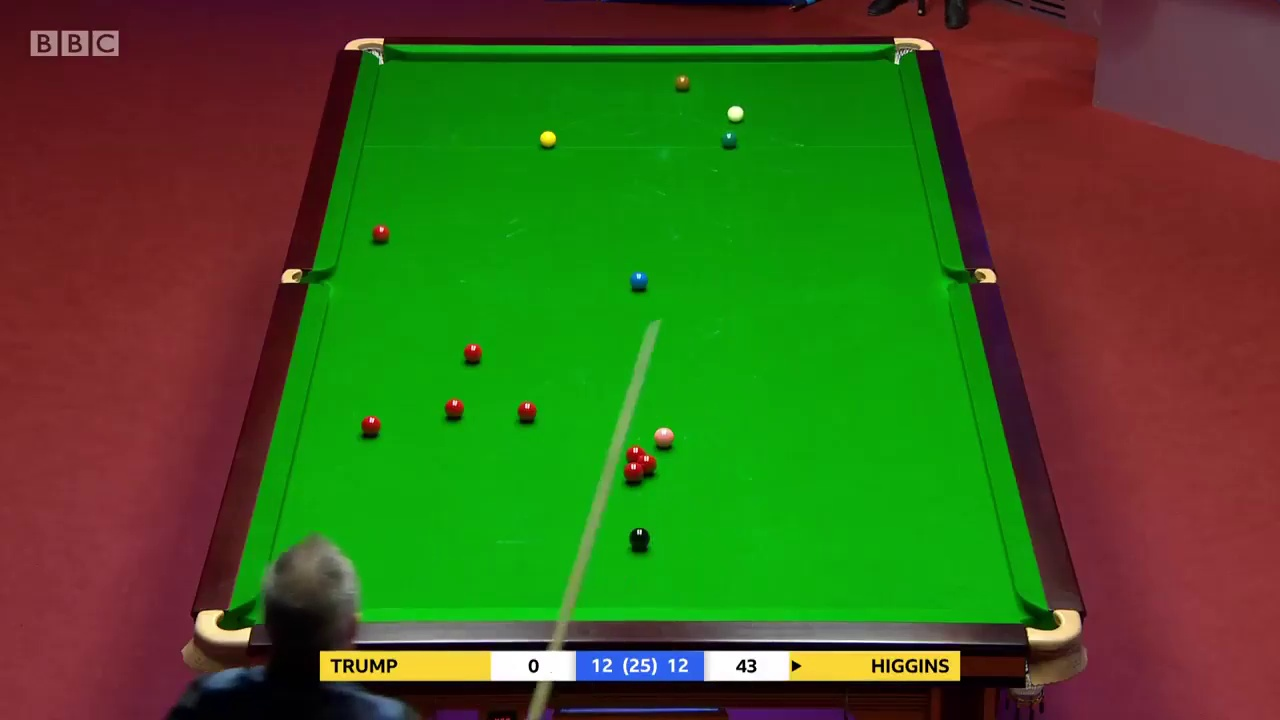ball: (627, 526, 653, 550), (620, 461, 643, 480), (537, 130, 557, 150), (370, 223, 389, 242), (444, 396, 463, 415), (629, 270, 649, 288), (654, 426, 671, 447), (518, 398, 533, 420), (672, 76, 691, 93), (463, 343, 480, 362), (725, 106, 746, 121), (361, 416, 377, 435), (719, 134, 735, 147)
